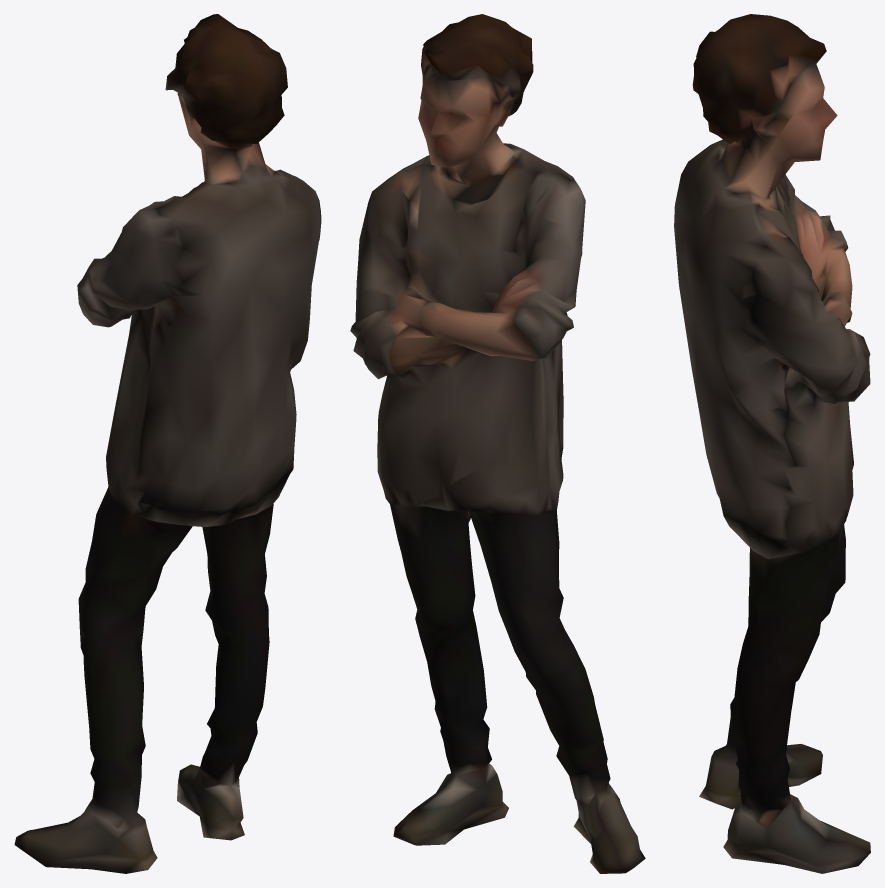
Rendered from man.glb.
3 renders of one model, left to right at view 1: azimuth 30°, elevation 25°; view 2: azimuth 150°, elevation 25°; view 3: azimuth 270°, elevation 25°, orthographic. The views are drawn at different scales.
Parts seen in each view (by area): view 1: model; view 2: model; view 3: model.
Part boxes in pixels (box(x1,y1,x2,y2)): model: box(14, 14, 321, 873); model: box(350, 14, 645, 873); model: box(674, 14, 870, 873).
Bounding box in the file's own units: 0.66 × 1.77 × 0.3801.
